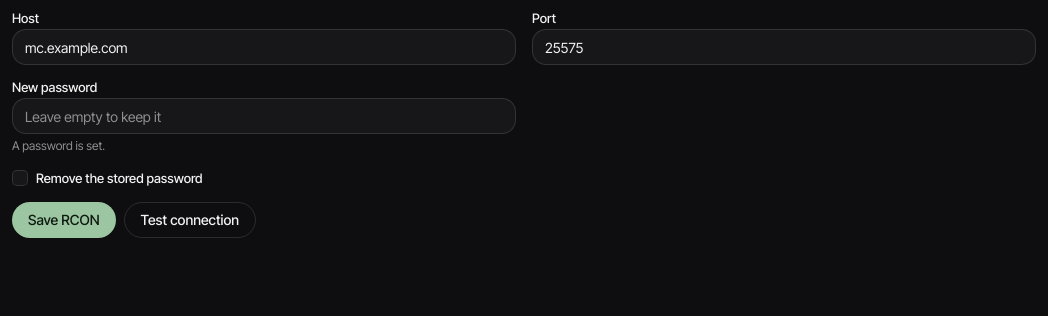
Test: RconPanel › explains an internal address
Click the button "Save RCON" at (64, 220), box [12,202,116,238]
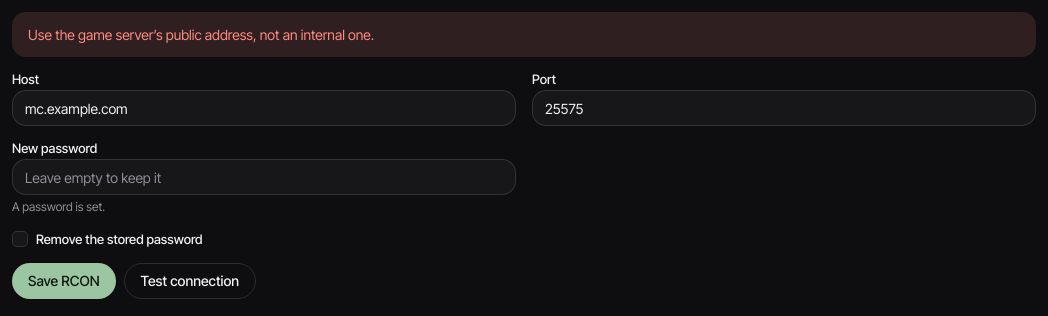
expect the message shows "public address": met, box [28,26,374,43]
